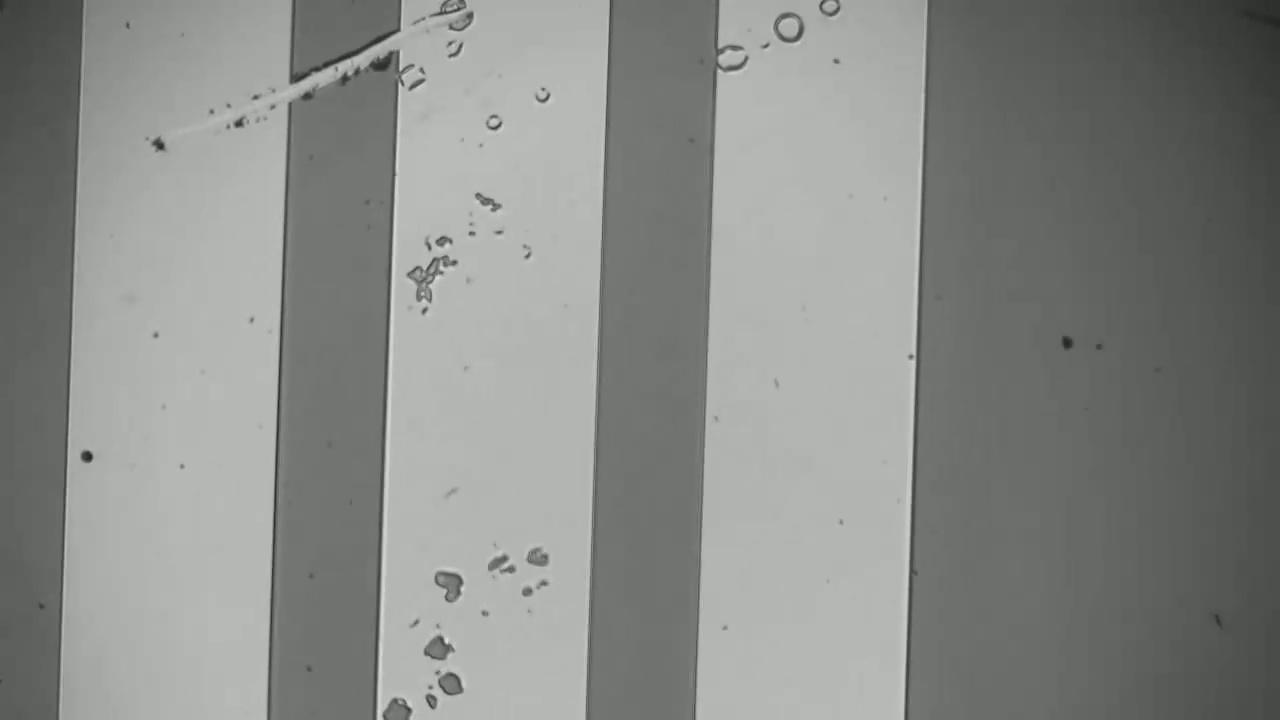Short_circuit: (266, 8, 413, 124)
